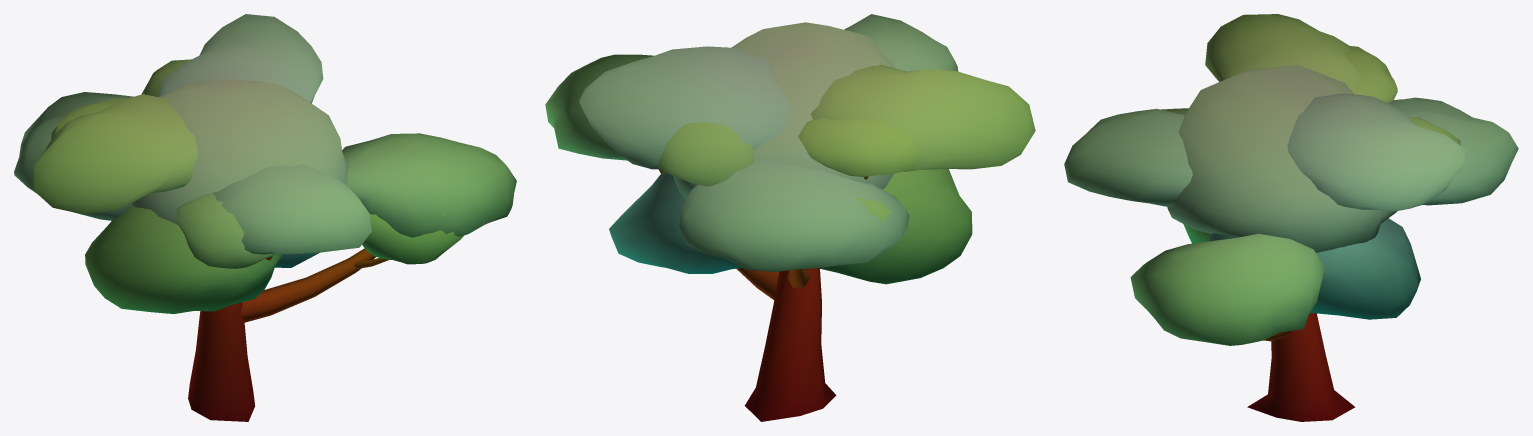
File: oak_b.glb
3 views of the same model, side by side, from view 1: azimuth 30°, elevation 25°; view 2: azimuth 150°, elevation 25°; view 3: azimuth 270°, elevation 25° (orthographic). The views are drawn at different scales.
Parts seen in each view (by area): view 1: oak_b_LOD0; view 2: oak_b_LOD0; view 3: oak_b_LOD0.
Part boxes in pixels (x1,y1,x2,y2): oak_b_LOD0: [14, 14, 516, 421]; oak_b_LOD0: [545, 14, 1035, 421]; oak_b_LOD0: [1064, 14, 1518, 421].
Size of what is drawn, in the model's own units: 11.72 by 8.07 by 10.1.
